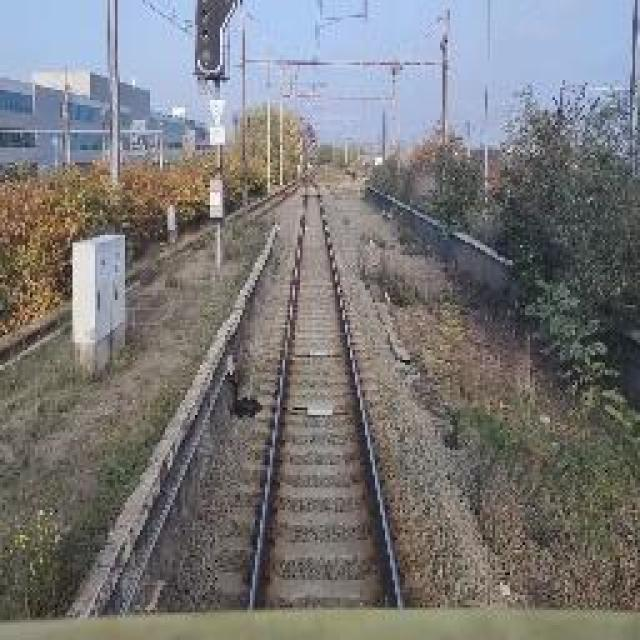rail: (204, 167, 439, 612)
